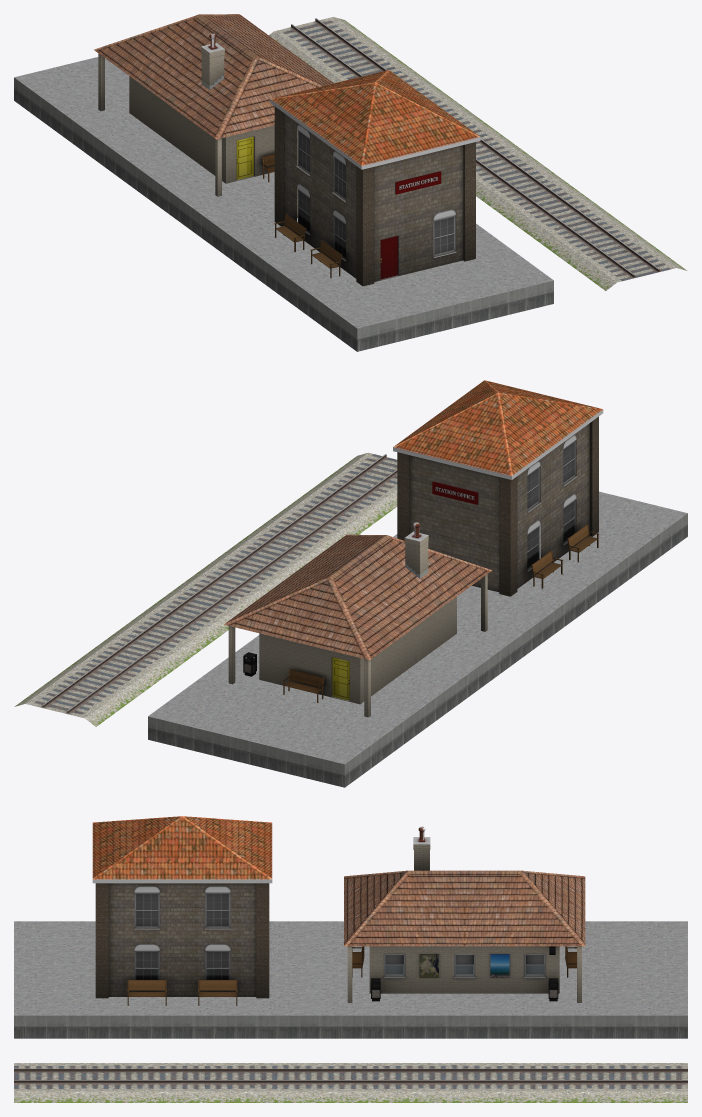
The model's file is StationOffice2.fbx.
3 renders of one model, top to bottom at view 1: azimuth 30°, elevation 25°; view 2: azimuth 150°, elevation 25°; view 3: azimuth 270°, elevation 25°, orthographic.
Visible parts, largest first — view 1: U3DMesh; view 2: U3DMesh; view 3: U3DMesh.
Part boxes in pixels (<box>): U3DMesh: <box>14,14,687,351</box>; U3DMesh: <box>14,380,687,787</box>; U3DMesh: <box>14,816,687,1102</box>.
Size of the model in its own units: 17.81 by 9.33 by 32.
